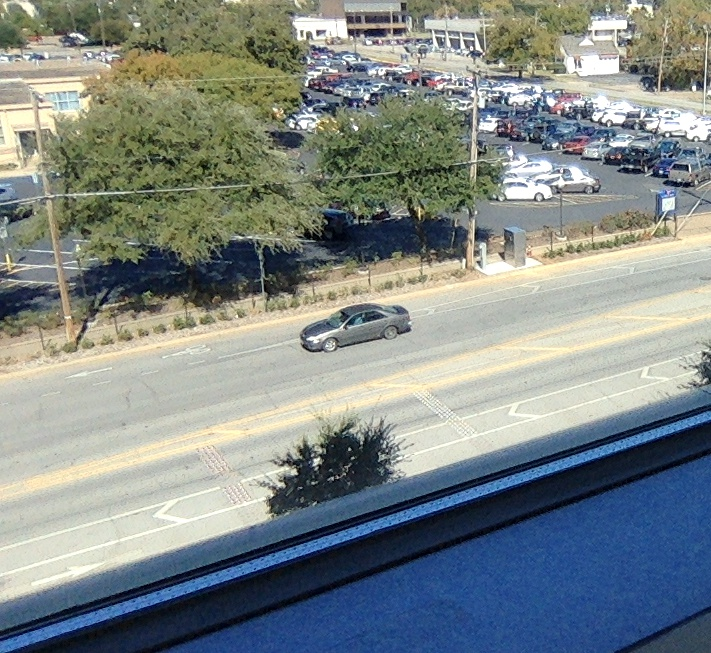car: (300, 300, 411, 353)
